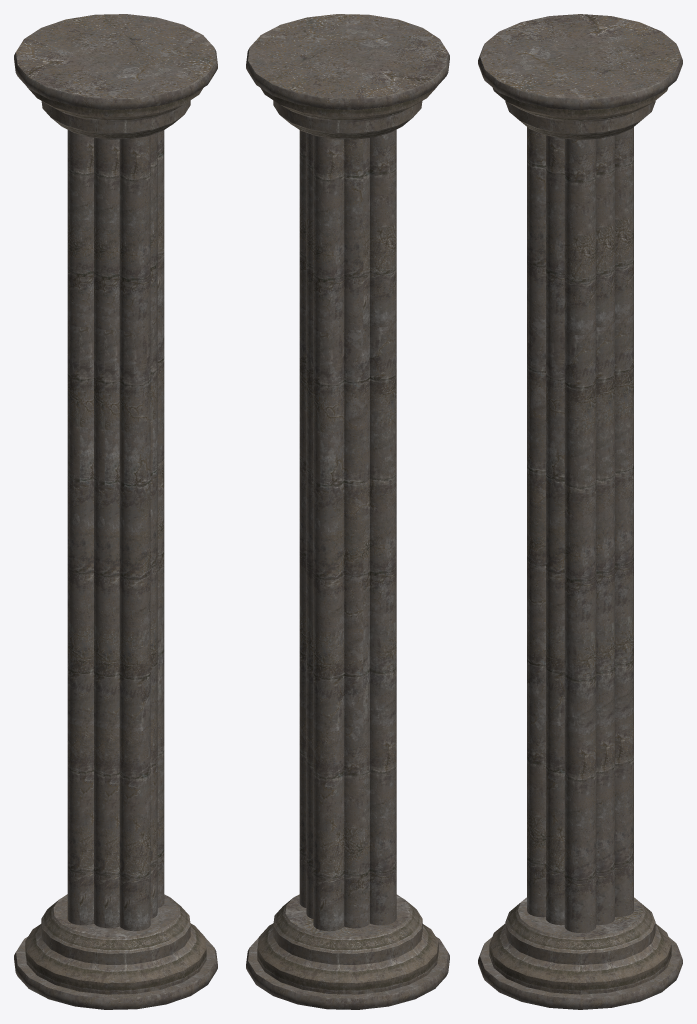
File: Column1.fbx
3 views of the same model, side by side, from view 1: azimuth 30°, elevation 25°; view 2: azimuth 150°, elevation 25°; view 3: azimuth 270°, elevation 25° (orthographic).
Visible parts, largest first — view 1: Trim_Column_1x8_A1; view 2: Trim_Column_1x8_A1; view 3: Trim_Column_1x8_A1.
Boxes of the visible parts, <box> form: Trim_Column_1x8_A1: <box>14,14,217,1009</box>; Trim_Column_1x8_A1: <box>246,14,449,1009</box>; Trim_Column_1x8_A1: <box>478,14,682,1009</box>.
Size of the model in its own units: 163 by 800 by 163.
